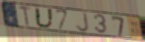3: (92, 14, 109, 36)
7: (111, 15, 126, 37), (55, 9, 70, 31)
J: (75, 12, 91, 33)
T: (17, 5, 33, 28)
U: (34, 7, 56, 30)
